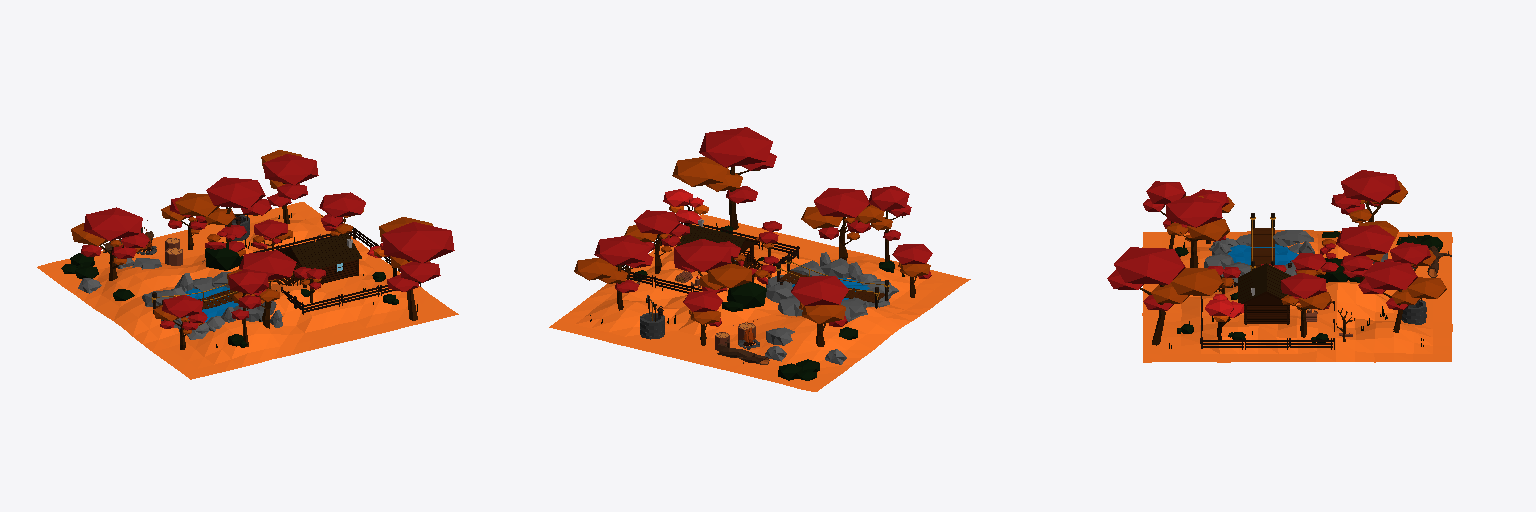
File: Forest10x10.obj
3 renders of one model, left to right at view 1: azimuth 30°, elevation 25°; view 2: azimuth 150°, elevation 25°; view 3: azimuth 270°, elevation 25°, orthographic.
Visible parts, largest first — view 1: Plane, Icosphere.002_Icosphere.001_Icosphere.002_Icosphere.008, Icosphere.002_Icosphere.002_Icosphere.002_Icosphere.010, Icosphere.001_Icosphere.018, Cylinder.005_Cylinder.062, Icosphere.002_Icosphere.027, Icosphere.001_Icosphere.000_Icosphere.001_Icosphere.001, Icosphere.001_Icosphere.006_Icosphere.001_Icosphere.005, Icosphere.002_Icosphere.000_Icosphere.002_Icosphere.001, Icosphere.001_Icosphere.003_Icosphere.001_Icosphere.015, Icosphere.001_Icosphere.005_Icosphere.001_Icosphere.000, Icosphere.026 (+1 smaller); view 2: Plane, Icosphere.002_Icosphere.001_Icosphere.002_Icosphere.008, Icosphere.002_Icosphere.027, Icosphere.001_Icosphere.000_Icosphere.001_Icosphere.001, Icosphere.002_Icosphere.002_Icosphere.002_Icosphere.010, Icosphere.001_Icosphere.018, Icosphere.001_Icosphere.003_Icosphere.001_Icosphere.015, Icosphere.002_Icosphere.000_Icosphere.002_Icosphere.001, Icosphere.001_Icosphere.006_Icosphere.001_Icosphere.005, Cylinder.005_Cylinder.062, Icosphere.001_Icosphere.005_Icosphere.001_Icosphere.000, Icosphere.026 (+1 smaller); view 3: Plane, Icosphere.002_Icosphere.001_Icosphere.002_Icosphere.008, Icosphere.002_Icosphere.027, Cylinder.005_Cylinder.062, Icosphere.001_Icosphere.018, Icosphere.001_Icosphere.000_Icosphere.001_Icosphere.001, Icosphere.002_Icosphere.002_Icosphere.002_Icosphere.010, Icosphere.001_Icosphere.003_Icosphere.001_Icosphere.015, Icosphere.002_Icosphere.000_Icosphere.002_Icosphere.001, Icosphere.001_Icosphere.005_Icosphere.001_Icosphere.000, Plane.001_Plane.003.
Boxes of the visible parts, x1,y1,x2,y2 form: Plane: [37, 202, 458, 379]; Icosphere.002_Icosphere.001_Icosphere.002_Icosphere.008: [379, 217, 454, 320]; Icosphere.002_Icosphere.002_Icosphere.002_Icosphere.010: [175, 177, 271, 242]; Icosphere.001_Icosphere.018: [71, 207, 149, 280]; Cylinder.005_Cylinder.062: [275, 234, 361, 287]; Icosphere.002_Icosphere.027: [261, 150, 318, 223]; Icosphere.001_Icosphere.000_Icosphere.001_Icosphere.001: [239, 250, 296, 328]; Icosphere.001_Icosphere.006_Icosphere.001_Icosphere.005: [153, 295, 207, 349]; Icosphere.002_Icosphere.000_Icosphere.002_Icosphere.001: [227, 269, 268, 346]; Icosphere.001_Icosphere.003_Icosphere.001_Icosphere.015: [319, 192, 365, 235]; Icosphere.001_Icosphere.005_Icosphere.001_Icosphere.000: [161, 197, 209, 249]; Icosphere.026: [205, 242, 242, 270]; Plane: [549, 214, 970, 391]; Icosphere.002_Icosphere.001_Icosphere.002_Icosphere.008: [672, 127, 776, 229]; Icosphere.002_Icosphere.027: [574, 235, 653, 310]; Icosphere.001_Icosphere.000_Icosphere.001_Icosphere.001: [801, 188, 870, 260]; Icosphere.002_Icosphere.002_Icosphere.002_Icosphere.010: [674, 239, 751, 293]; Icosphere.001_Icosphere.018: [791, 276, 848, 346]; Icosphere.001_Icosphere.003_Icosphere.001_Icosphere.015: [624, 210, 689, 273]; Icosphere.002_Icosphere.000_Icosphere.002_Icosphere.001: [855, 186, 911, 261]; Icosphere.001_Icosphere.006_Icosphere.001_Icosphere.005: [892, 244, 932, 297]; Cylinder.005_Cylinder.062: [676, 219, 762, 277]; Icosphere.001_Icosphere.005_Icosphere.001_Icosphere.000: [683, 291, 722, 345]; Icosphere.026: [727, 282, 766, 308]; Plane: [1142, 230, 1452, 362]; Icosphere.002_Icosphere.001_Icosphere.002_Icosphere.008: [1107, 247, 1223, 345]; Icosphere.002_Icosphere.027: [1358, 262, 1446, 332]; Cylinder.005_Cylinder.062: [1238, 263, 1290, 324]; Icosphere.001_Icosphere.018: [1331, 170, 1407, 222]; Icosphere.001_Icosphere.000_Icosphere.001_Icosphere.001: [1166, 195, 1229, 267]; Icosphere.002_Icosphere.002_Icosphere.002_Icosphere.010: [1336, 221, 1398, 282]; Icosphere.001_Icosphere.003_Icosphere.001_Icosphere.015: [1281, 273, 1332, 337]; Icosphere.002_Icosphere.000_Icosphere.002_Icosphere.001: [1143, 181, 1203, 248]; Icosphere.001_Icosphere.005_Icosphere.001_Icosphere.000: [1384, 242, 1435, 270]; Plane.001_Plane.003: [1228, 244, 1298, 264].
Bounding box in the file's own units: 20.08 × 7.03 × 22.37.